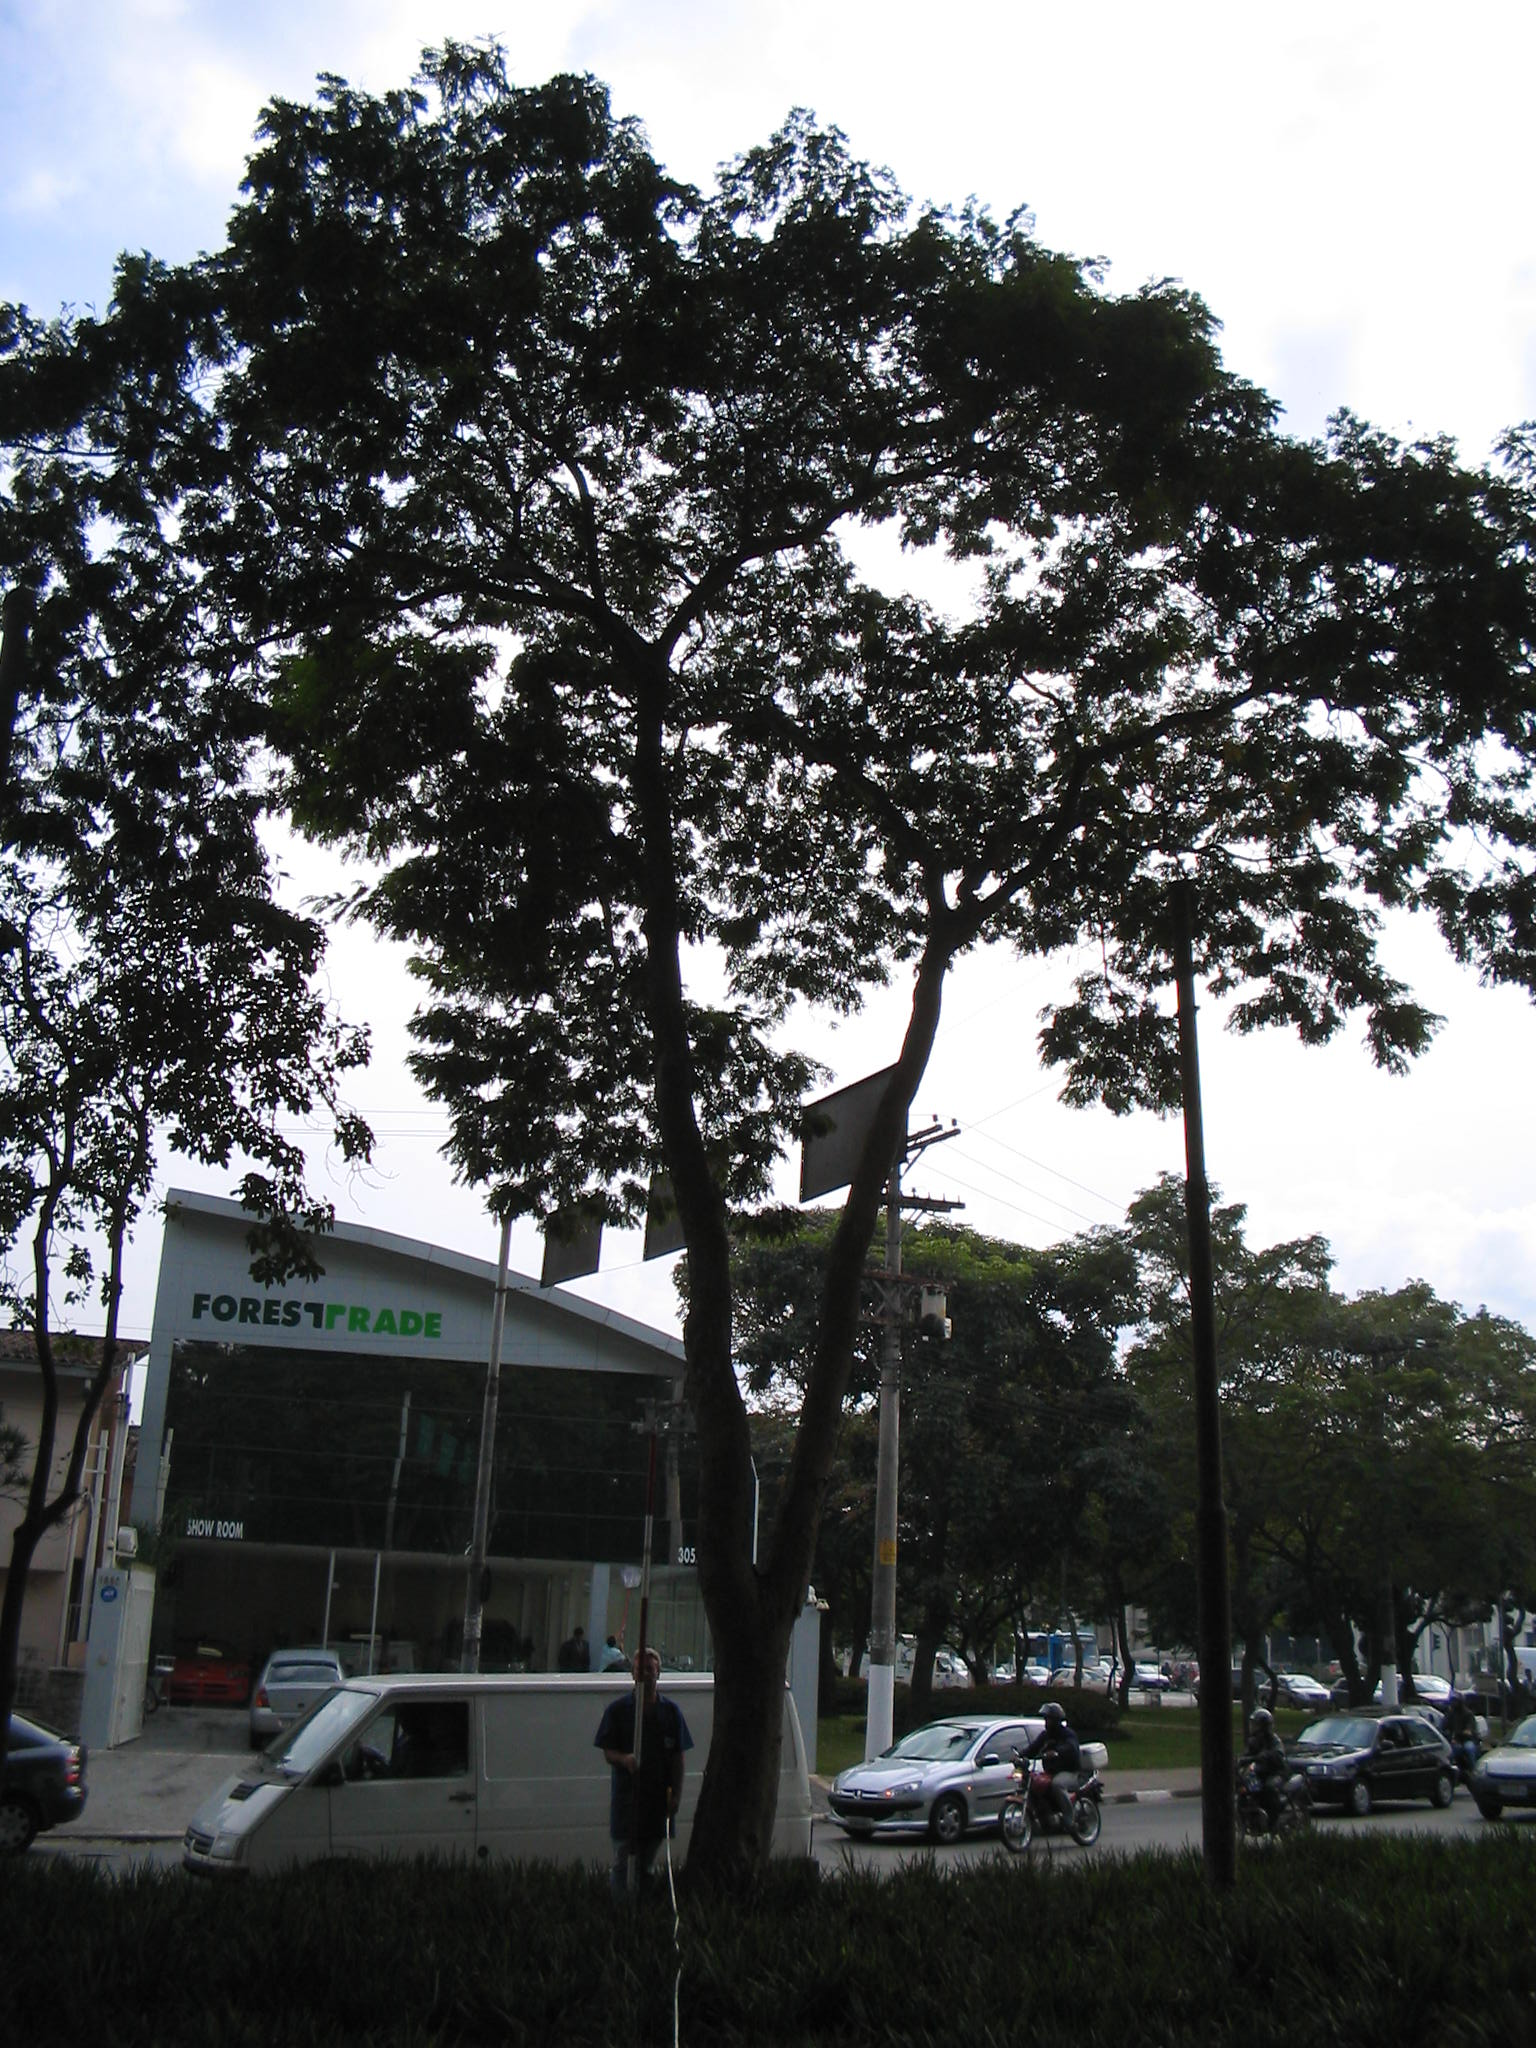crown: (6, 45, 1531, 1271)
stem: (657, 1596, 831, 1896)
stick: (613, 1424, 670, 1900)
tree: (2, 40, 1533, 1896)
